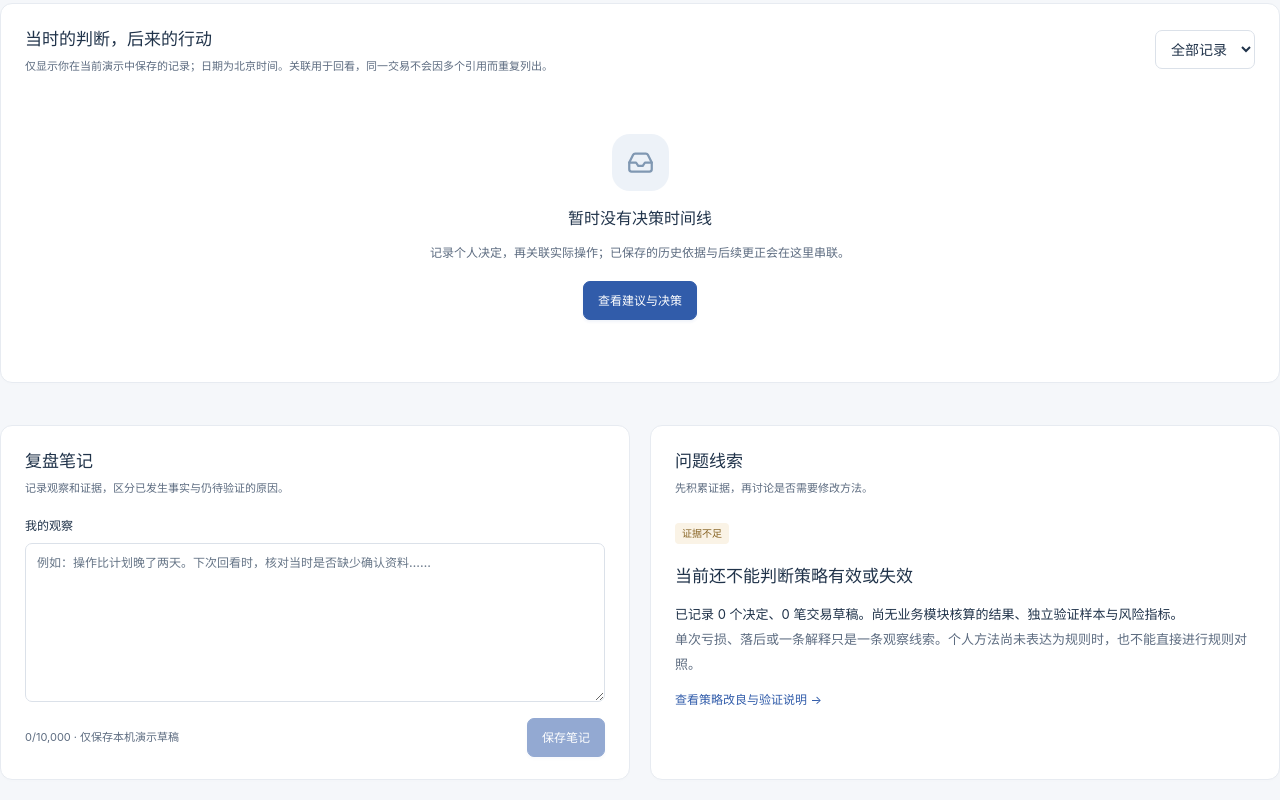
Test case: review interactions › keeps unsaved review notes when persistence fails
(page scrolled)
Type "操作时点需要核对" into the text box named "复盘笔记" at (315, 622), box top-left (25, 543), bottom-right (605, 702)
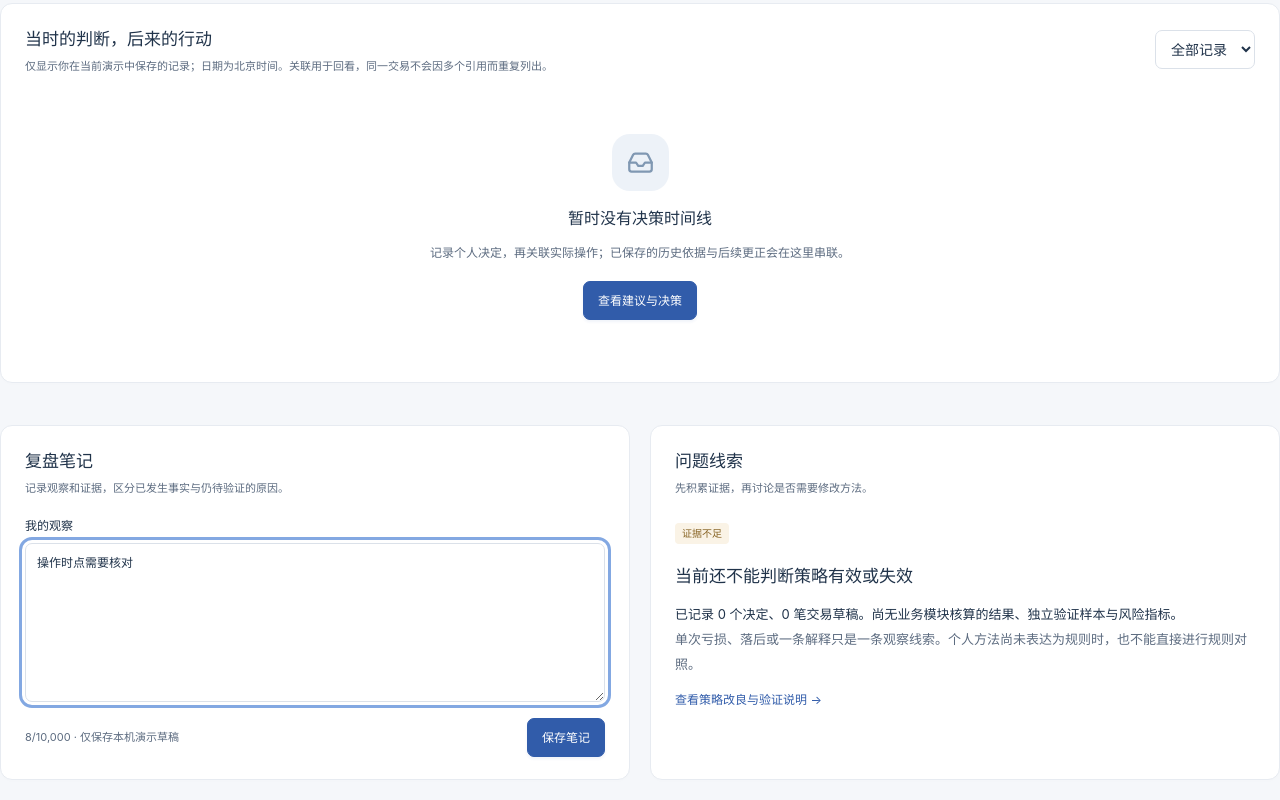
Click the button "保存笔记" at (566, 737), box top-left (527, 718), bottom-right (605, 757)
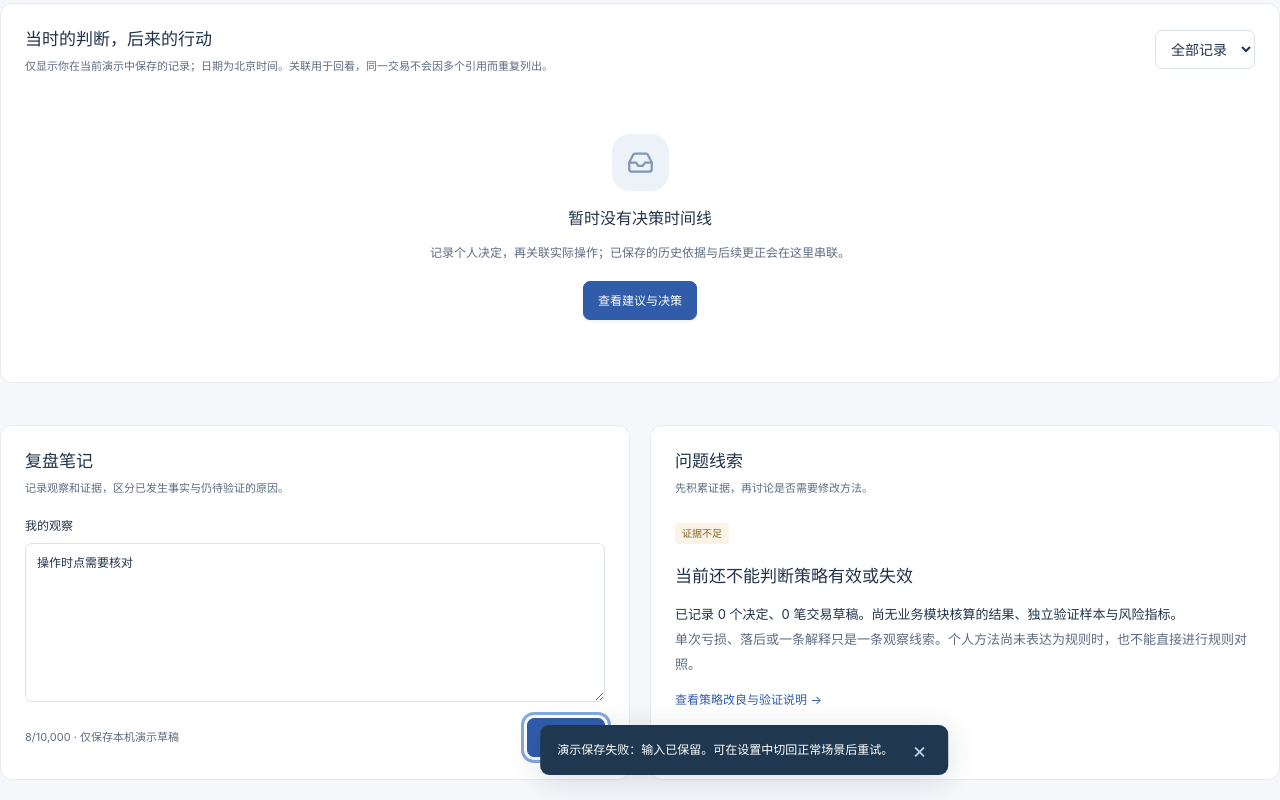
Now the message shows "保存失败", box top-left (557, 742), bottom-right (893, 757)
